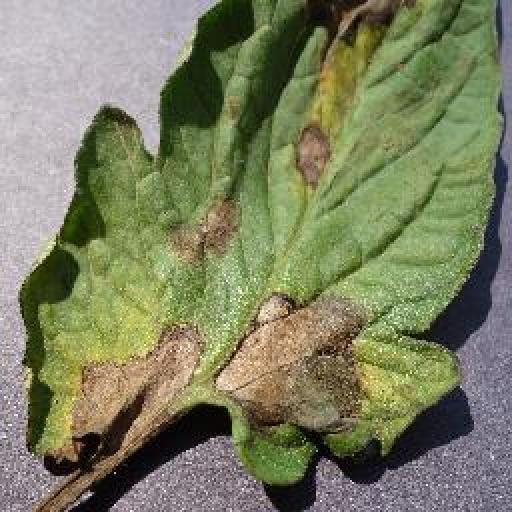disease_tomato: (18, 0, 512, 488)
